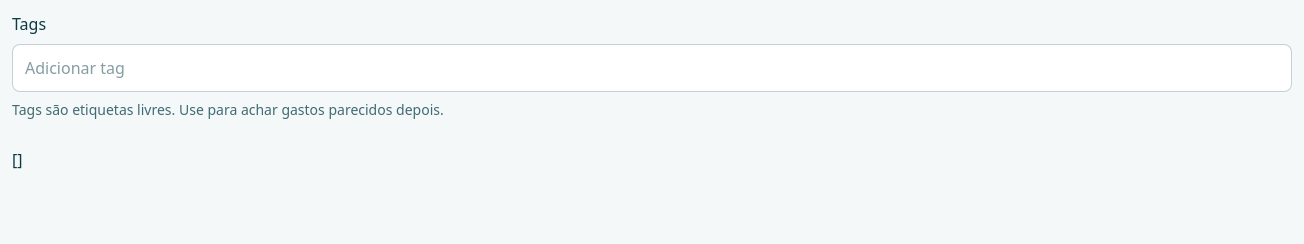
Test: TagInput › adds the pending text when the field loses focus
This screenshot has width=1304, height=244.
Step 1. Type "escola" into the dropdown labelled "Tags" → (652, 68), box [12, 44, 1292, 92]
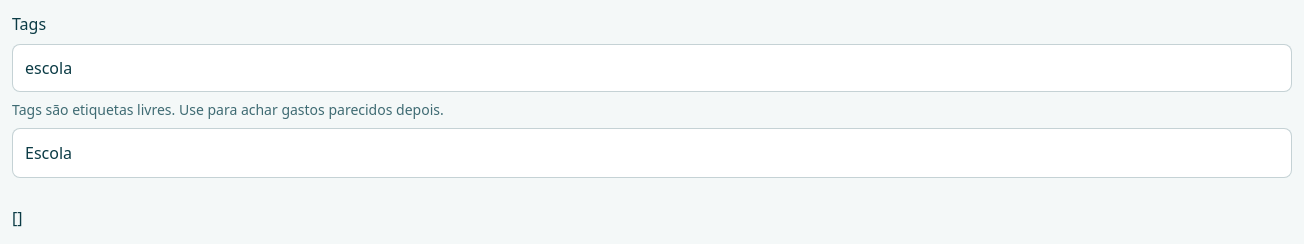
Result: the option "Escola" is shown at [25, 142, 72, 164]
Step 2. Leave the dropdown labelled "Tags", box [12, 44, 1292, 92]
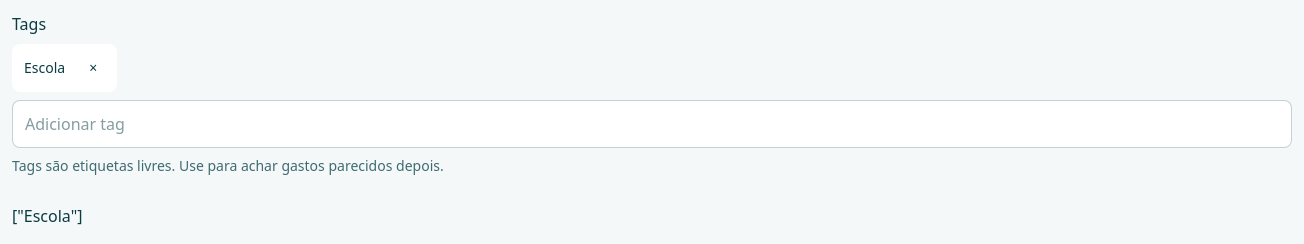
Result: the dropdown labelled "Tags" is empty at [12, 100, 1292, 148]
